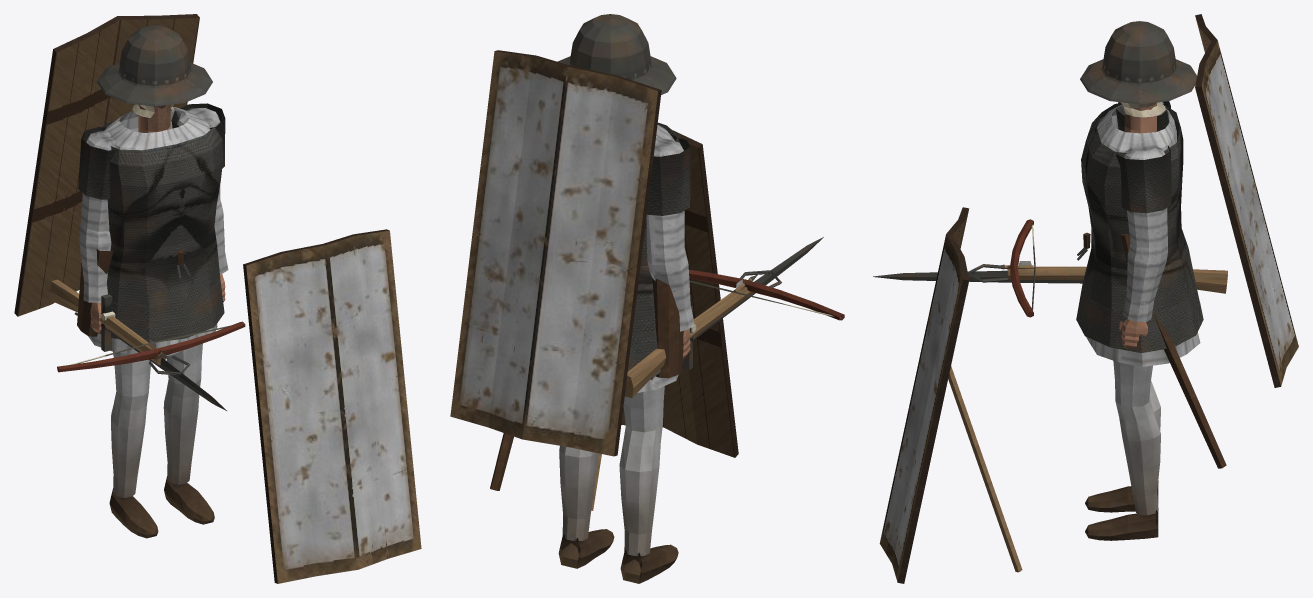
The model's file is crossbow.glb.
3 renders of one model, left to right at view 1: azimuth 30°, elevation 25°; view 2: azimuth 150°, elevation 25°; view 3: azimuth 270°, elevation 25°, orthographic. The views are drawn at different scales.
Parts seen in each view (by area): view 1: crossbow_LOD0; view 2: crossbow_LOD0; view 3: crossbow_LOD0.
Part boxes in pixels (x1,y1,x2,y2): crossbow_LOD0: (14,14,421,583); crossbow_LOD0: (450,14,844,583); crossbow_LOD0: (873,14,1298,583).
Size of what is drawn, in the model's own units: 1.17 by 1.84 by 1.4.
1 material, 1 textured.
